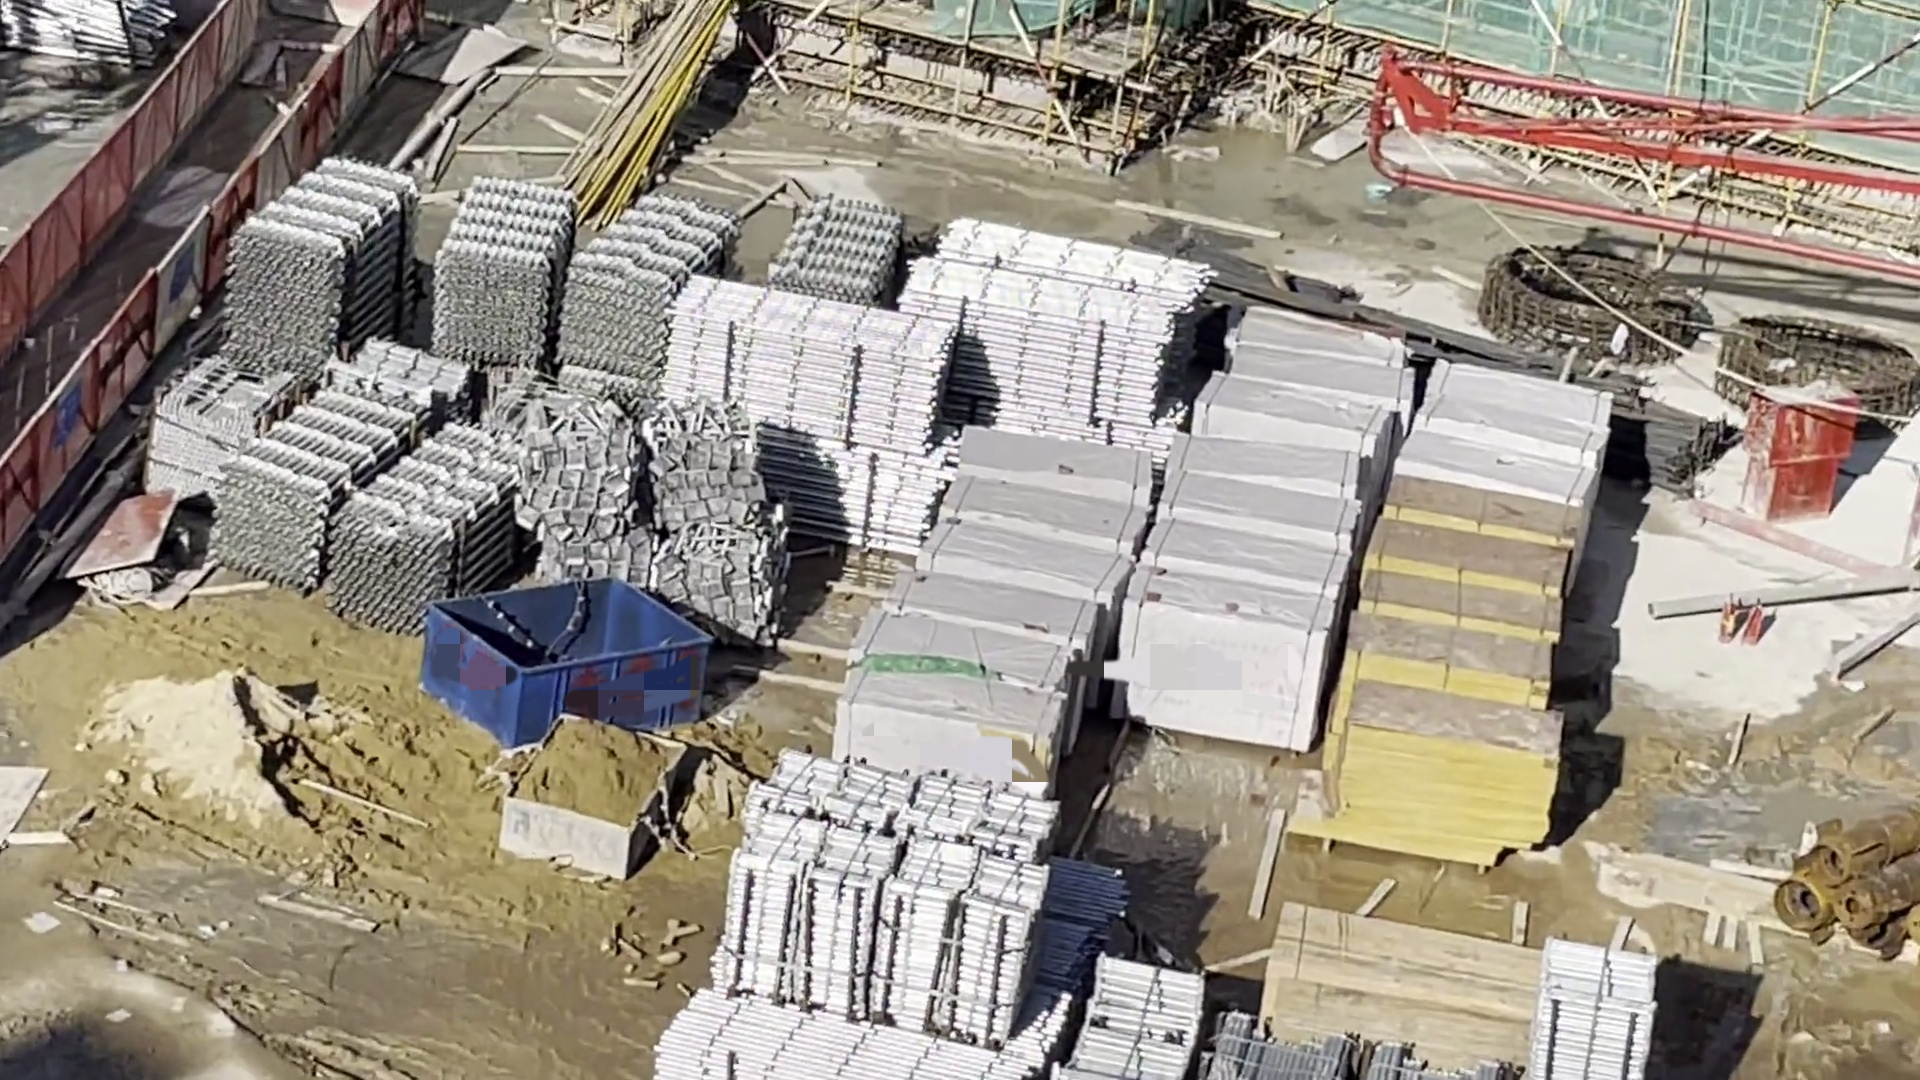board: (1335, 680, 1556, 852), (1346, 612, 1559, 669), (1389, 479, 1623, 521), (1391, 539, 1582, 574), (1381, 599, 1536, 609)
fence: (1, 198, 146, 504), (96, 1, 249, 187), (264, 9, 415, 160)
hopper: (451, 556, 702, 729)
rebar: (1154, 215, 1712, 491)
scaffold: (748, 749, 1013, 977), (204, 386, 425, 564), (541, 211, 735, 396), (349, 397, 520, 599), (661, 977, 948, 1080), (1031, 881, 1174, 1080), (276, 162, 393, 357), (444, 177, 549, 344), (1545, 931, 1625, 1080), (783, 193, 891, 301), (154, 382, 253, 479)
wood: (1209, 916, 1561, 1071)
